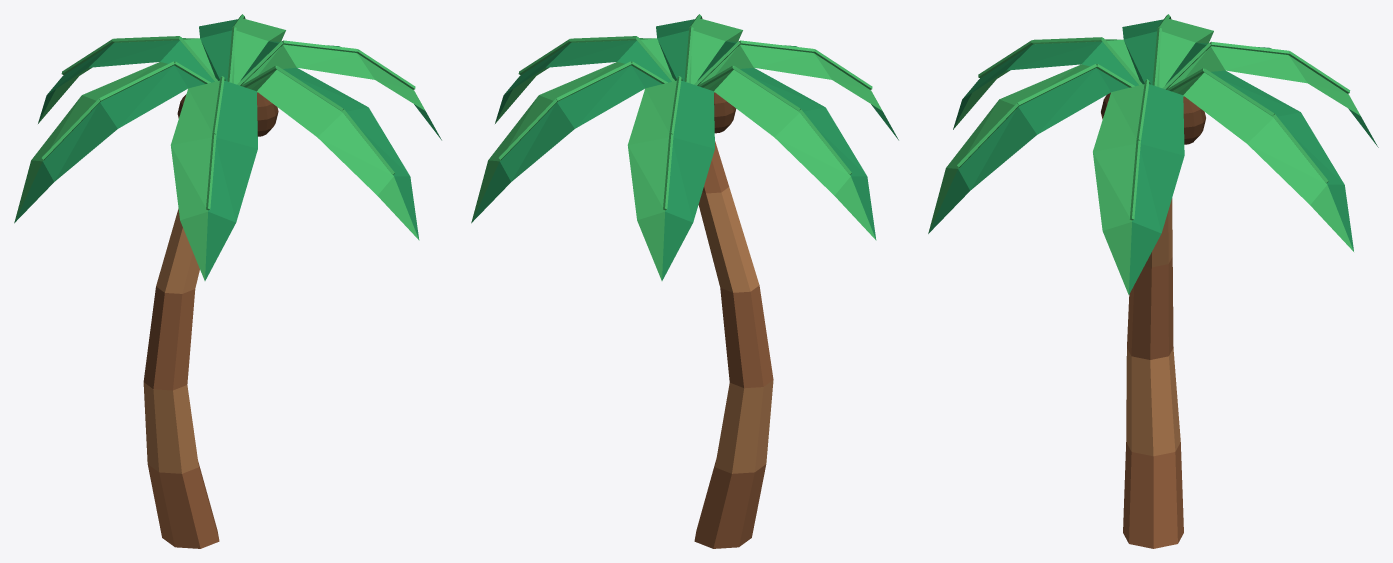
The model's file is palmtree.glb.
3 views of the same model, side by side, from view 1: azimuth 30°, elevation 25°; view 2: azimuth 150°, elevation 25°; view 3: azimuth 270°, elevation 25° (orthographic). The views are drawn at different scales.
Visible parts, largest first — view 1: leaf, leaf_shadow, trunk, trunk_ring, coconut; view 2: leaf, leaf_shadow, trunk, trunk_ring, coconut; view 3: leaf, leaf_shadow, trunk, trunk_ring, coconut.
Part boxes in pixels (bbox=[...]): leaf: bbox=[14, 14, 425, 280]; leaf_shadow: bbox=[14, 19, 441, 280]; trunk: bbox=[143, 286, 219, 548]; trunk_ring: bbox=[143, 208, 199, 473]; coconut: bbox=[177, 92, 278, 136]; leaf: bbox=[471, 14, 882, 280]; leaf_shadow: bbox=[471, 19, 898, 280]; trunk: bbox=[694, 141, 773, 548]; trunk_ring: bbox=[698, 187, 773, 473]; coconut: bbox=[714, 92, 736, 133]; leaf: bbox=[928, 14, 1360, 294]; leaf_shadow: bbox=[928, 19, 1378, 294]; trunk: bbox=[1123, 257, 1183, 548]; trunk_ring: bbox=[1126, 198, 1180, 456]; coconut: bbox=[1101, 92, 1205, 144].
Bounding box in the file's own units: 2.99 × 3.36 × 2.73.
